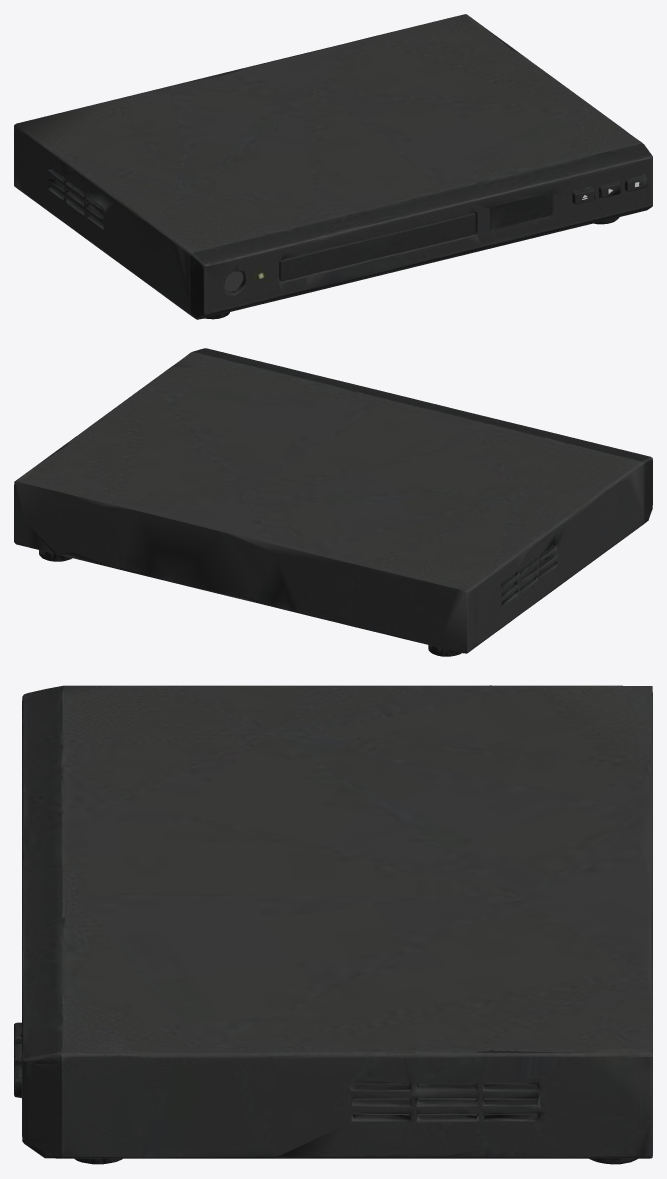
File: DVD.glb
3 views of the same model, one above another, from view 1: azimuth 30°, elevation 25°; view 2: azimuth 150°, elevation 25°; view 3: azimuth 270°, elevation 25° (orthographic). The views are drawn at different scales.
Size of the model in its own units: 2.3 by 0.36 by 1.67.
1 material, 1 textured.
